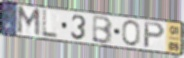3: (70, 14, 88, 41)
B: (91, 15, 114, 46)
L: (41, 9, 60, 39)
M: (16, 6, 41, 38)
O: (121, 20, 141, 48)
P: (142, 21, 167, 49)
